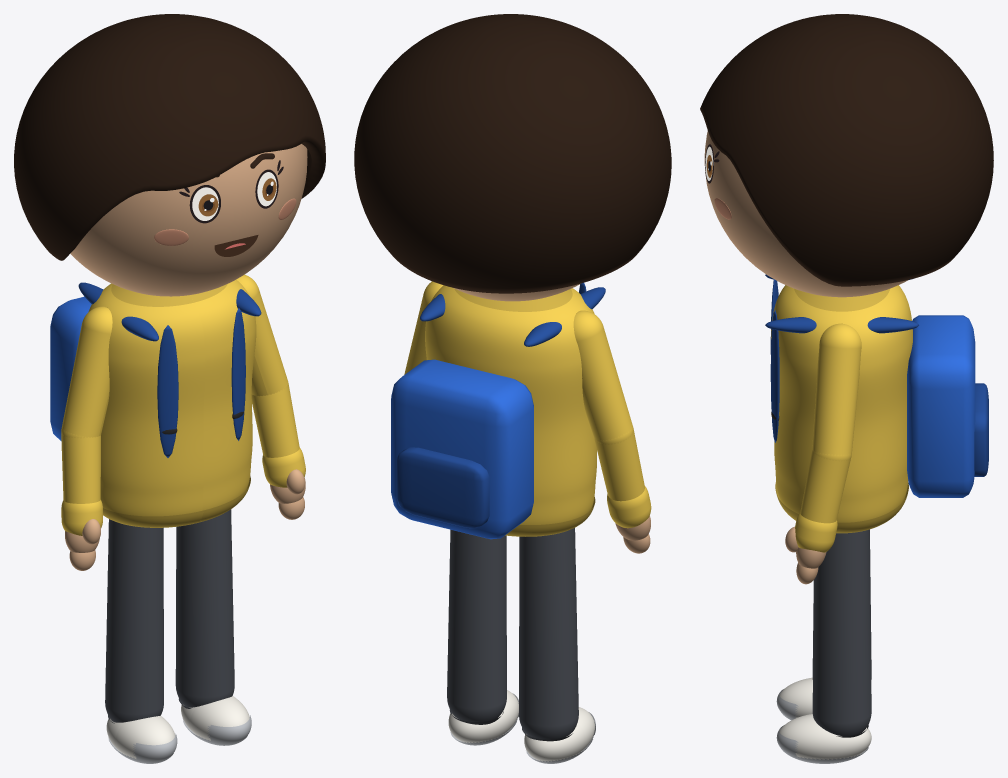
The model's file is leerling_d.glb.
3 renders of one model, left to right at view 1: azimuth 30°, elevation 25°; view 2: azimuth 150°, elevation 25°; view 3: azimuth 270°, elevation 25°, orthographic.
Parts seen in each view (by area): view 1: leerling_d_haar, leerling_d_romp, leerling_d_hoofd, leerling_d_been_R, leerling_d_been_L, leerling_d_bovenarm_R, leerling_d_rugzak, leerling_d_onderarm_R, leerling_d_onderarm_L, leerling_d_bovenarm_L, leerling_d_rugzak_band_R, leerling_d_schoen_R (+10 smaller); view 2: leerling_d_haar, leerling_d_romp, leerling_d_rugzak, leerling_d_been_R, leerling_d_been_L, leerling_d_rugzak_vak, leerling_d_bovenarm_R, leerling_d_onderarm_R, leerling_d_schoen_R, leerling_d_schoen_L, leerling_d_romp_halsboord, leerling_d_manchet_R (+4 smaller); view 3: leerling_d_haar, leerling_d_romp, leerling_d_rugzak, leerling_d_been_L, leerling_d_hoofd, leerling_d_bovenarm_L, leerling_d_onderarm_L, leerling_d_schoen_L, leerling_d_rugzak_vak, leerling_d_rugzak_schouder_L, leerling_d_manchet_L, leerling_d_romp_halsboord (+3 smaller).
Part boxes in pixels (x1,y1,x2,y2): leerling_d_haar: (14, 14, 325, 260); leerling_d_romp: (88, 279, 256, 516); leerling_d_hoofd: (70, 144, 307, 296); leerling_d_been_R: (105, 519, 163, 722); leerling_d_been_L: (175, 509, 234, 707); leerling_d_bovenarm_R: (61, 306, 112, 437); leerling_d_rugzak: (50, 296, 91, 441); leerling_d_onderarm_R: (61, 431, 100, 503); leerling_d_onderarm_L: (251, 384, 299, 457); leerling_d_bovenarm_L: (236, 274, 287, 396); leerling_d_rugzak_band_R: (157, 325, 178, 457); leerling_d_schoen_R: (106, 715, 175, 758); leerling_d_haar: (354, 14, 671, 293); leerling_d_romp: (425, 285, 596, 524); leerling_d_rugzak: (391, 359, 533, 539); leerling_d_been_R: (519, 528, 578, 739); leerling_d_been_L: (447, 529, 506, 721); leerling_d_rugzak_vak: (396, 447, 489, 528); leerling_d_bovenarm_R: (573, 310, 632, 443); leerling_d_onderarm_R: (594, 429, 644, 501); leerling_d_schoen_R: (524, 707, 594, 761); leerling_d_schoen_L: (448, 690, 518, 742); leerling_d_romp_halsboord: (454, 288, 572, 311); leerling_d_manchet_R: (607, 486, 651, 528); leerling_d_haar: (700, 14, 993, 286); leerling_d_romp: (771, 285, 912, 522); leerling_d_rugzak: (907, 315, 975, 497); leerling_d_been_L: (812, 529, 871, 736); leerling_d_hoofd: (704, 131, 907, 297); leerling_d_bovenarm_L: (812, 323, 861, 460); leerling_d_onderarm_L: (800, 450, 850, 523); leerling_d_schoen_L: (779, 714, 871, 759); leerling_d_rugzak_vak: (974, 383, 988, 476); leerling_d_rugzak_schouder_L: (765, 317, 918, 333); leerling_d_manchet_L: (795, 512, 837, 552); leerling_d_romp_halsboord: (794, 288, 889, 311).
Bounding box in the file's own units: 0.652 × 1.63 × 0.6083.
